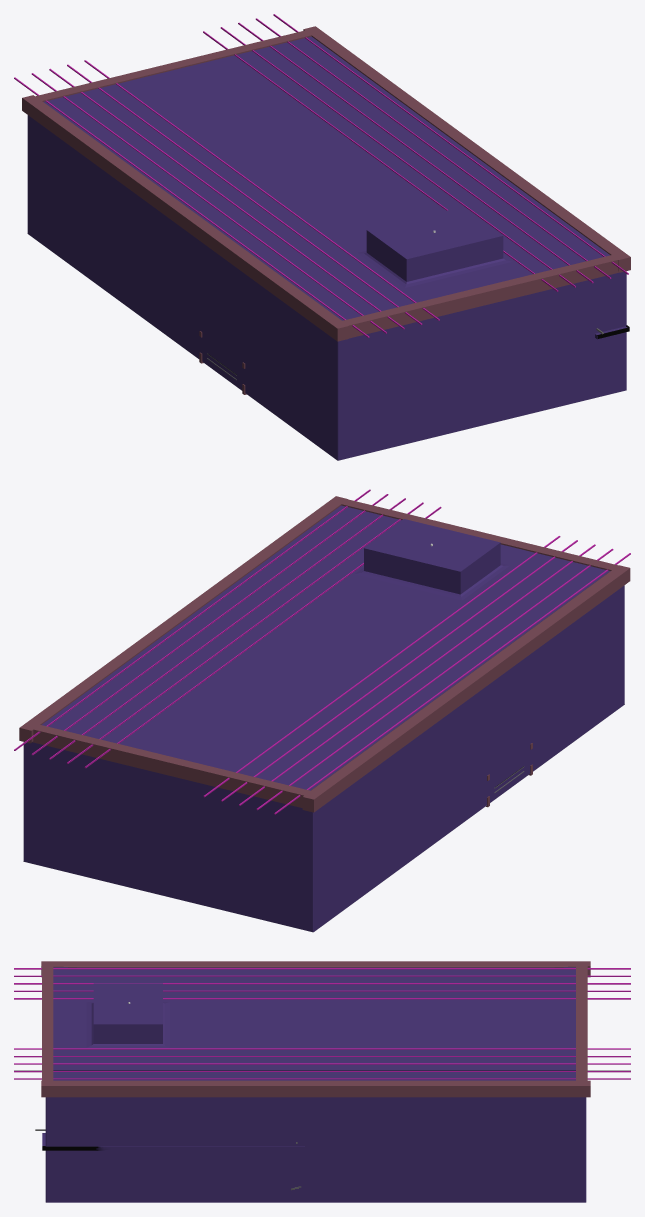
The model's file is club2.obj.
3 views of the same model, one above another, from view 1: azimuth 30°, elevation 25°; view 2: azimuth 150°, elevation 25°; view 3: azimuth 270°, elevation 25° (orthographic). The views are drawn at different scales.
Parts seen in each view (by area): view 1: roof_Baked, wholeClub_Baked, kloda1_Baked, kloda1.002_Baked, kloda1.001_Baked, led.001_Baked, led_Baked, kloda1.003_Baked; view 2: roof_Baked, wholeClub_Baked, kloda1_Baked, kloda1.003_Baked, kloda1.001_Baked, led.001_Baked, led_Baked, kloda1.002_Baked; view 3: roof_Baked, wholeClub_Baked, kloda1.001_Baked, led.001_Baked, led_Baked, kloda1_Baked, kloda1.002_Baked, kloda1.003_Baked, RampL_Baked.
Part boxes in pixels (bbox=[...]): roof_Baked: bbox=[43, 36, 609, 320]; wholeClub_Baked: bbox=[27, 115, 626, 460]; kloda1_Baked: bbox=[22, 95, 348, 341]; kloda1.002_Baked: bbox=[342, 255, 619, 338]; kloda1.001_Baked: bbox=[303, 26, 630, 272]; led.001_Baked: bbox=[14, 60, 439, 337]; led_Baked: bbox=[203, 14, 628, 291]; kloda1.003_Baked: bbox=[31, 30, 311, 103]; roof_Baked: bbox=[42, 505, 610, 790]; wholeClub_Baked: bbox=[23, 585, 624, 931]; kloda1_Baked: bbox=[302, 565, 630, 812]; kloda1.003_Baked: bbox=[33, 724, 315, 807]; kloda1.001_Baked: bbox=[19, 496, 347, 743]; led.001_Baked: bbox=[203, 536, 630, 814]; led_Baked: bbox=[14, 489, 441, 768]; kloda1.002_Baked: bbox=[339, 499, 622, 572]; roof_Baked: bbox=[53, 967, 575, 1080]; wholeClub_Baked: bbox=[45, 1097, 586, 1202]; kloda1.001_Baked: bbox=[41, 1080, 590, 1097]; led.001_Baked: bbox=[14, 968, 630, 999]; led_Baked: bbox=[14, 1048, 630, 1079]; kloda1_Baked: bbox=[41, 961, 590, 977]; kloda1.002_Baked: bbox=[42, 962, 53, 1080]; kloda1.003_Baked: bbox=[576, 963, 587, 1080]; RampL_Baked: bbox=[42, 1133, 304, 1150].
Size of the model in its own units: 84.36 by 44.28 by 176.
